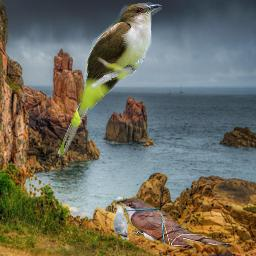Cuckoo: (57, 2, 162, 157), (112, 195, 235, 255)
